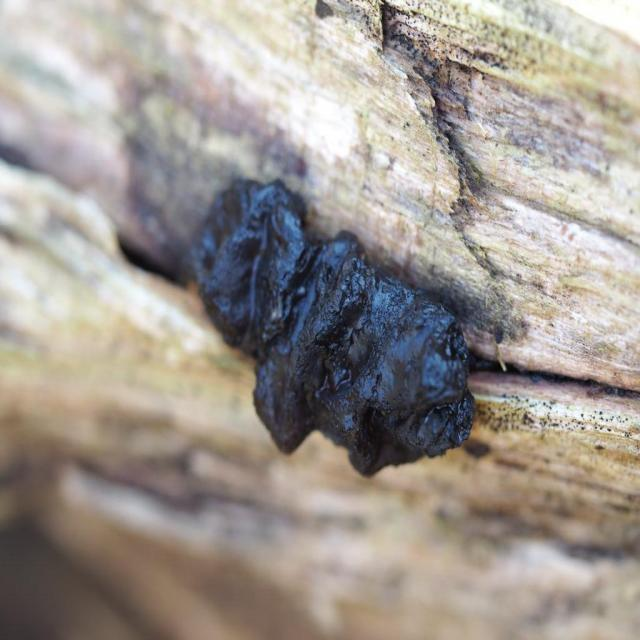Auricularia auricula: (186, 181, 474, 481)
